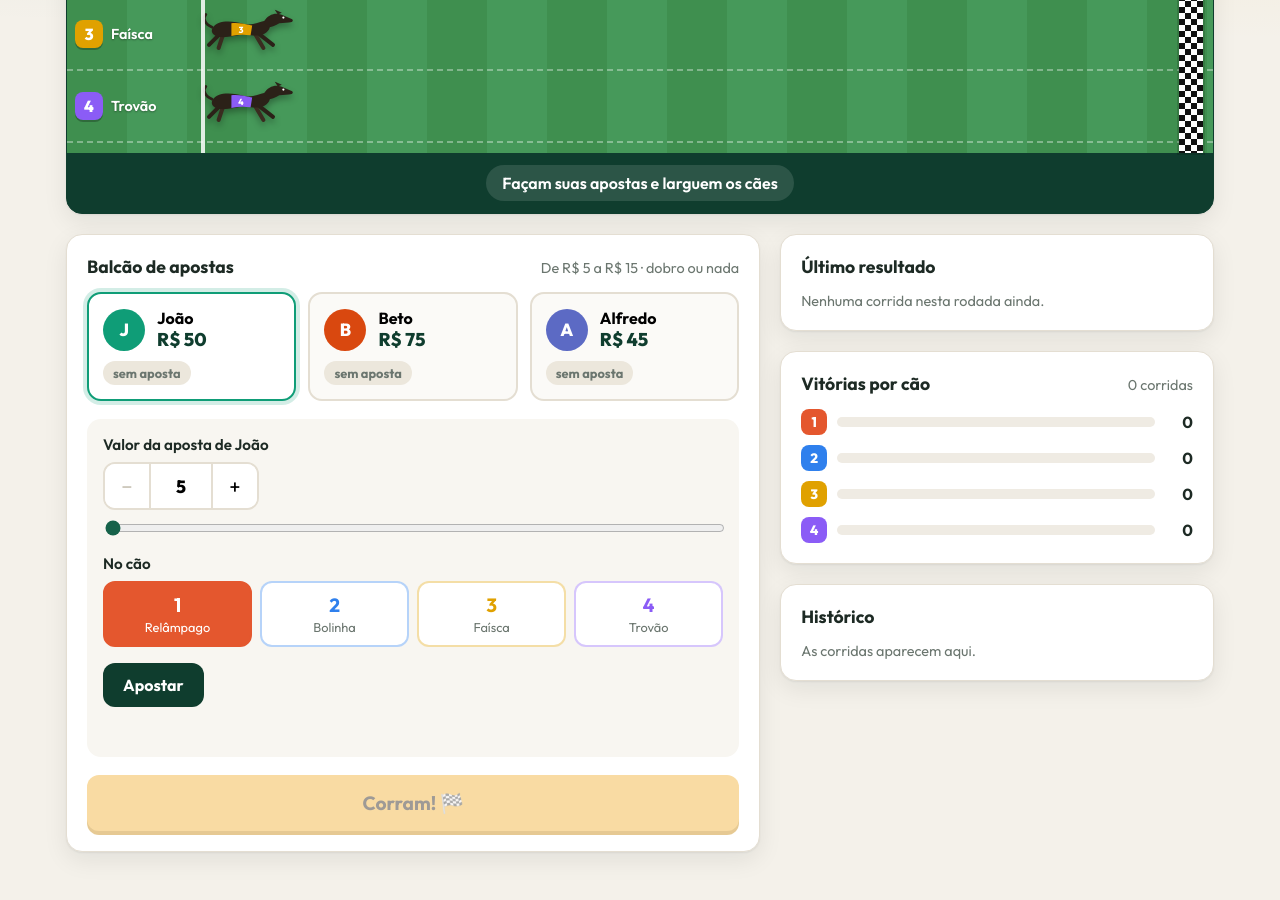
Scenario: balcão de apostas › escolhe o cão e registra a aposta, habilitando "Corram!"
(page scrolled)
Click the radio button labelled "3 Faísca": (492, 614) [417, 581, 566, 647]
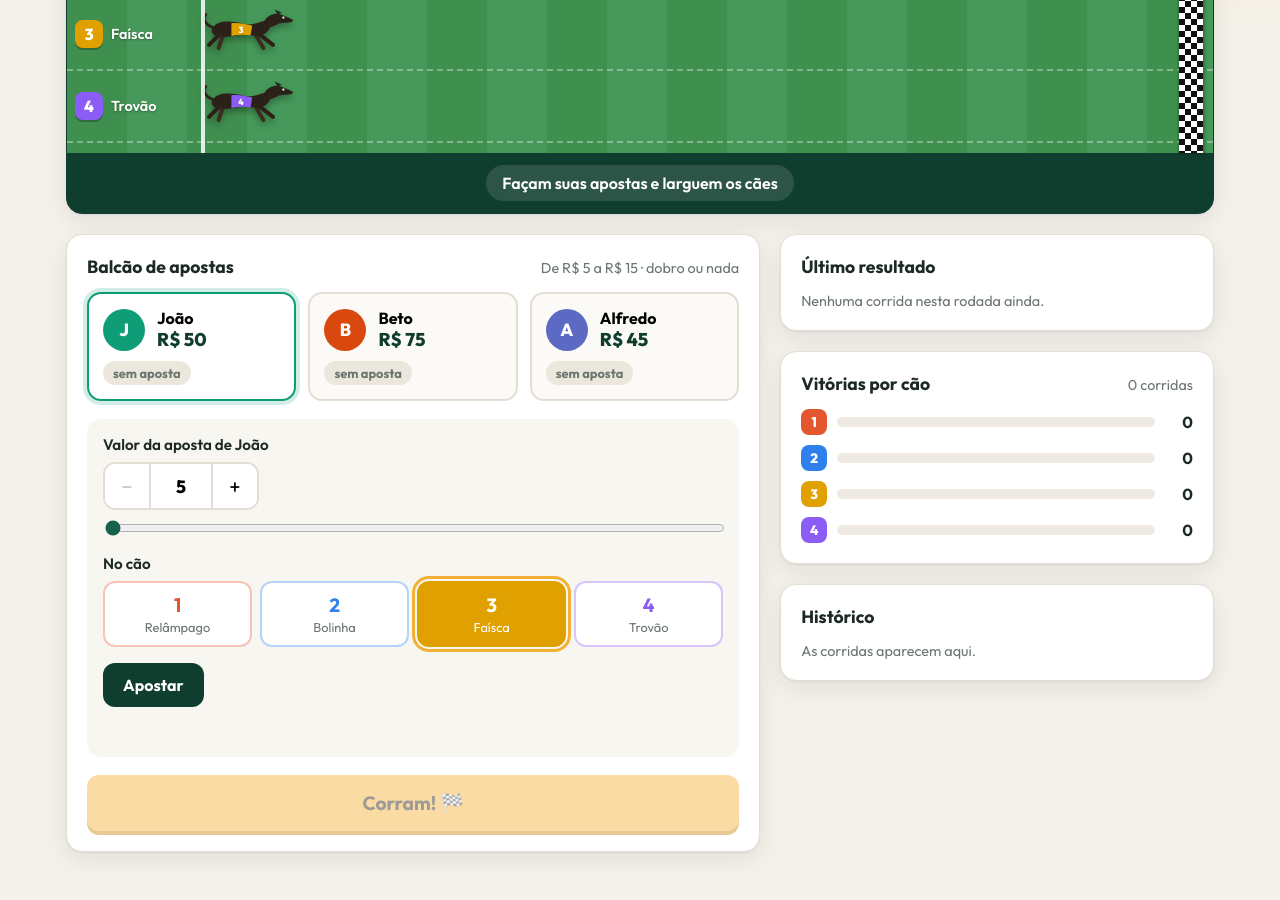
Result: the radio button labelled "3 Faísca" is checked at [417, 581, 566, 647]
Click the button "Apostar": (153, 685) [103, 663, 204, 707]
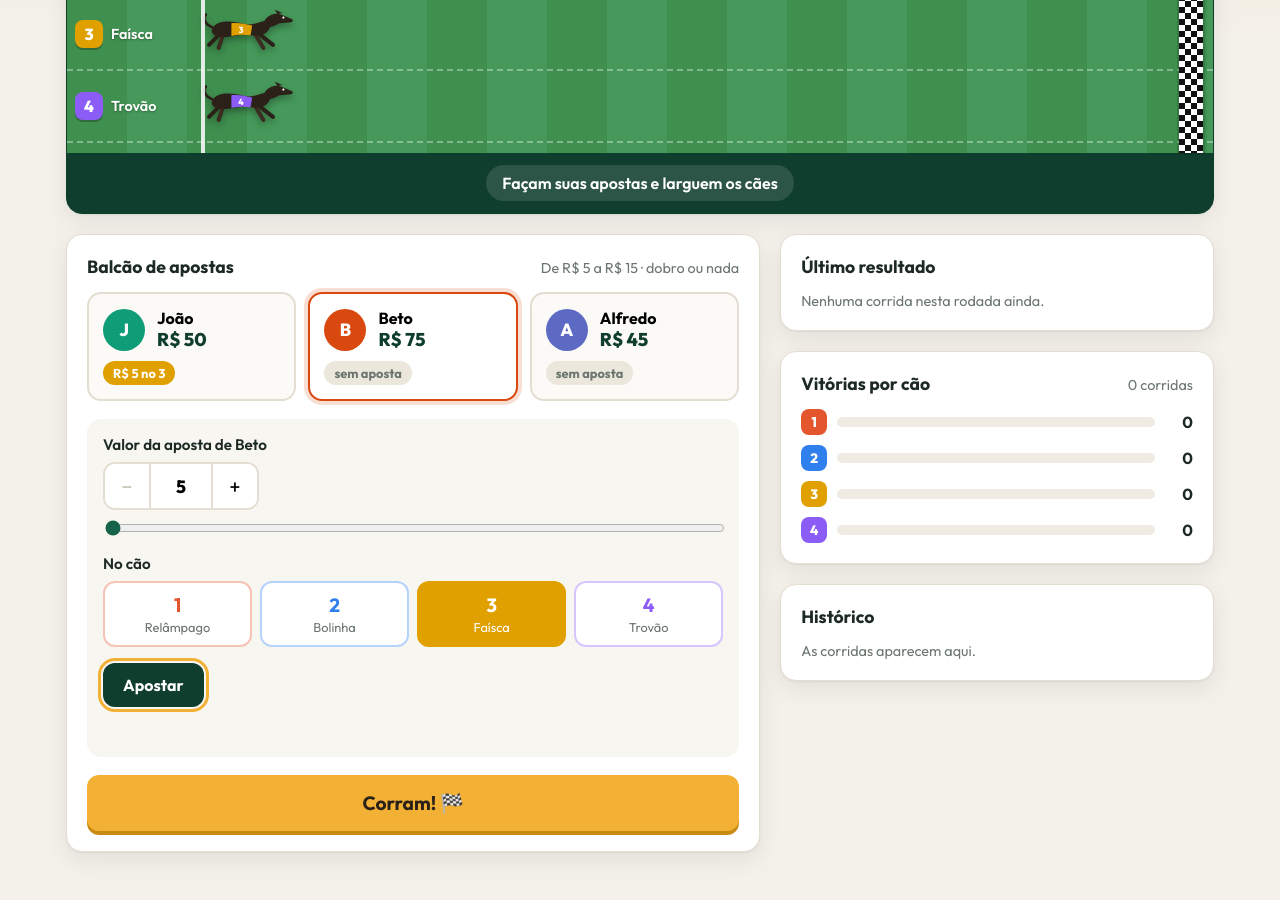
Result: the text "R$ 5 no 3" is shown at [103, 361, 175, 385]
Result: the radio button labelled "B Beto R$ 75 sem aposta" is checked at [308, 292, 518, 401]
Result: the button "Corram! 🏁" is enabled at [87, 775, 739, 831]
